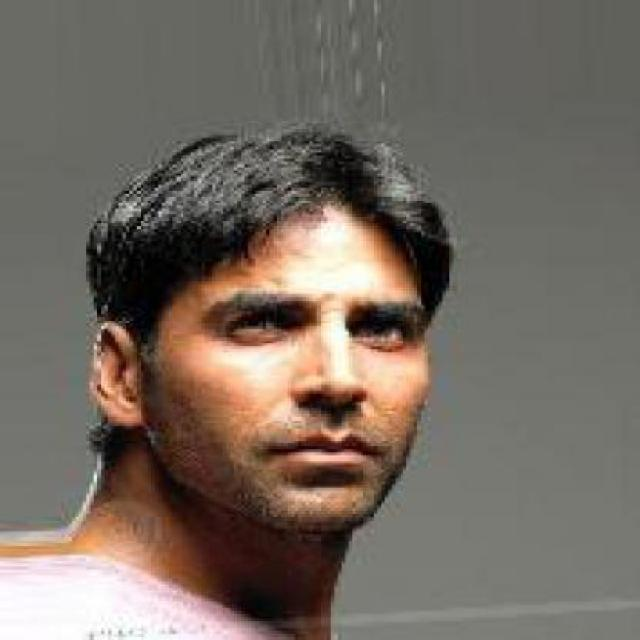closed-mouth: (266, 428, 388, 472)
